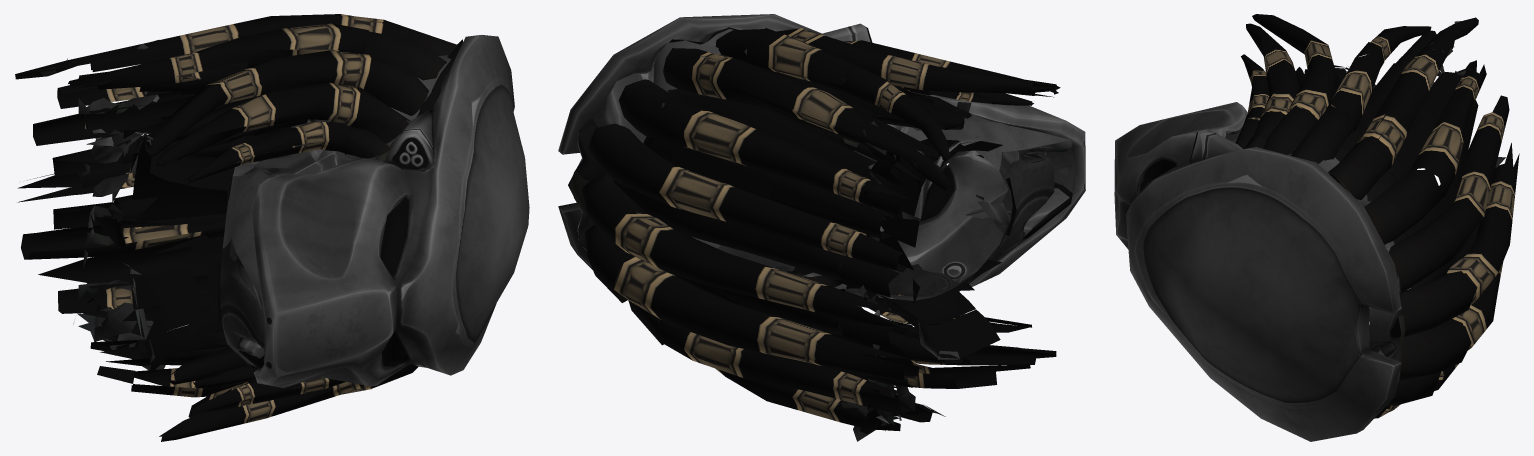
File: PredatorFemale.fbx
3 renders of one model, left to right at view 1: azimuth 30°, elevation 25°; view 2: azimuth 150°, elevation 25°; view 3: azimuth 270°, elevation 25°, orthographic. The views are drawn at different scales.
Parts seen in each view (by area): view 1: Predator Fortnite version.001; view 2: Predator Fortnite version.001; view 3: Predator Fortnite version.001.
Boxes of the visible parts, left/top/right/bottom form: Predator Fortnite version.001: left=15, top=14, right=529, bottom=441; Predator Fortnite version.001: left=558, top=14, right=1085, bottom=441; Predator Fortnite version.001: left=1114, top=14, right=1519, bottom=441.
Bounding box in the file's own units: 0.2198 × 0.1662 × 0.1897.
